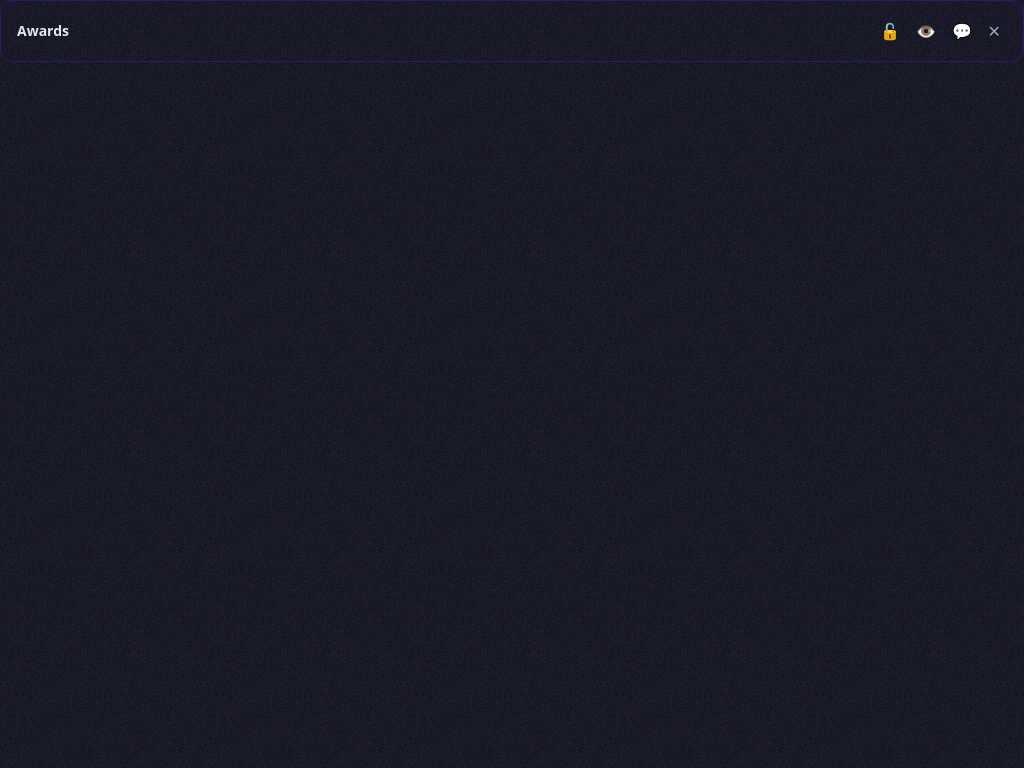
Test case: SectionView custom › expands when the section bar (name) is single-clicked
Expected: the field showing "Winner" is not shown
Click the text "Awards": (43,31) [17, 21, 69, 41]
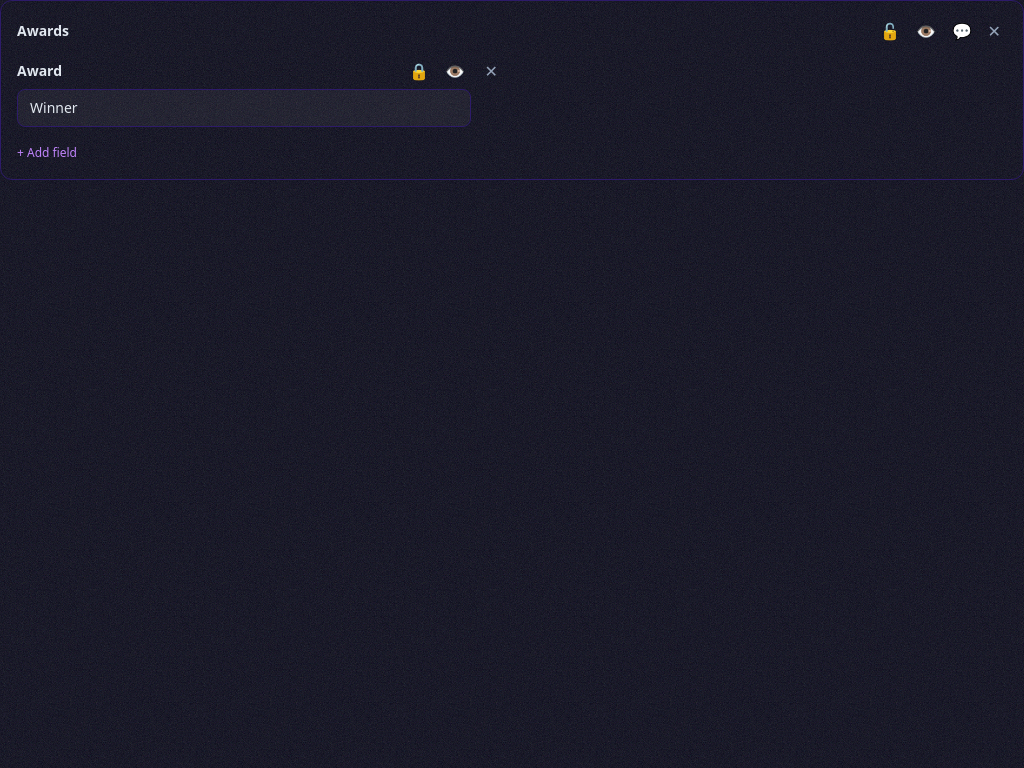
Expected: the field showing "Winner" is shown, [17, 89, 471, 127]
